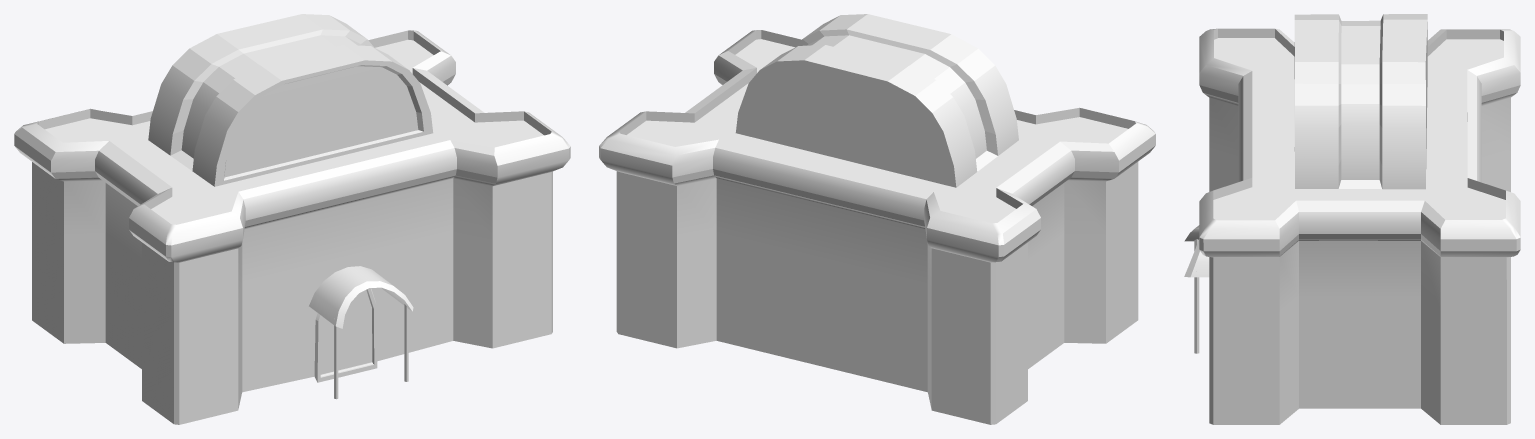
The model's file is FleaMarket.fbx.
3 renders of one model, left to right at view 1: azimuth 30°, elevation 25°; view 2: azimuth 150°, elevation 25°; view 3: azimuth 270°, elevation 25°, orthographic. The views are drawn at different scales.
Visible parts, largest first — view 1: pCube2; view 2: pCube2; view 3: pCube2.
Boxes of the visible parts, left/top/right/bottom form: pCube2: left=14, top=14, right=570, bottom=424; pCube2: left=599, top=14, right=1155, bottom=424; pCube2: left=1184, top=14, right=1520, bottom=424.
Bounding box in the file's own units: 9.89 × 6.68 × 6.89.
